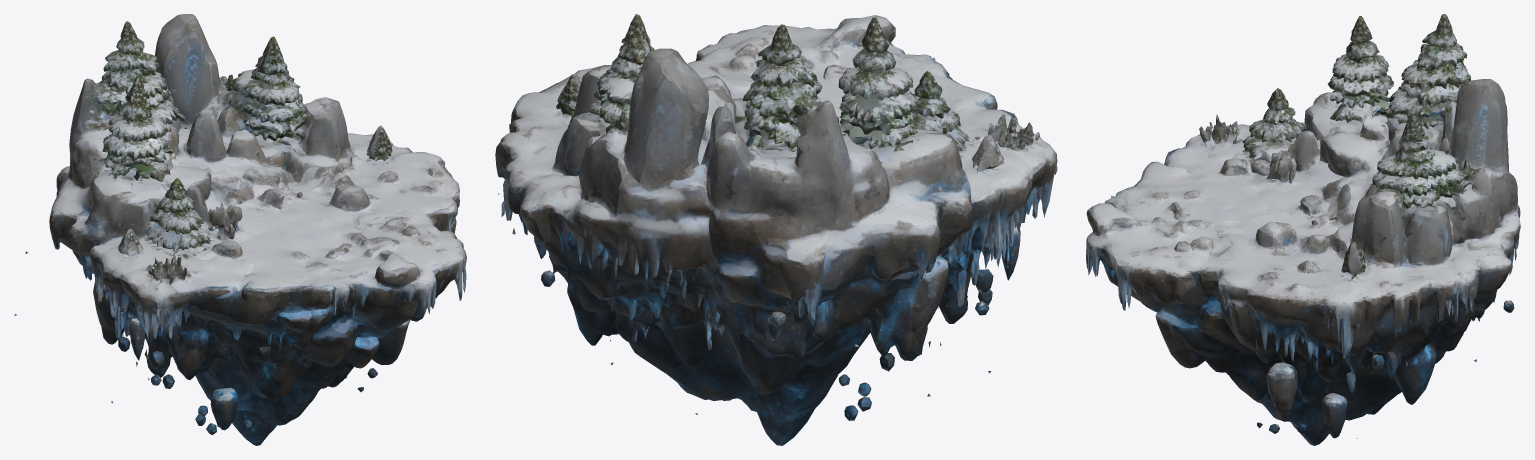
File: snow-sky-island-1.glb
3 views of the same model, side by side, from view 1: azimuth 30°, elevation 25°; view 2: azimuth 150°, elevation 25°; view 3: azimuth 270°, elevation 25° (orthographic). The views are drawn at different scales.
Visible parts, largest first — view 1: textured_mesh.obj; view 2: textured_mesh.obj; view 3: textured_mesh.obj.
Boxes of the visible parts, box(x1,y1,x2,y2) form: textured_mesh.obj: box(14, 14, 466, 445); textured_mesh.obj: box(495, 14, 1057, 445); textured_mesh.obj: box(1086, 14, 1520, 445).
Size of the model in its own units: 1.8 by 1.77 by 1.75.
Materials: 1 (1 with a texture image).
